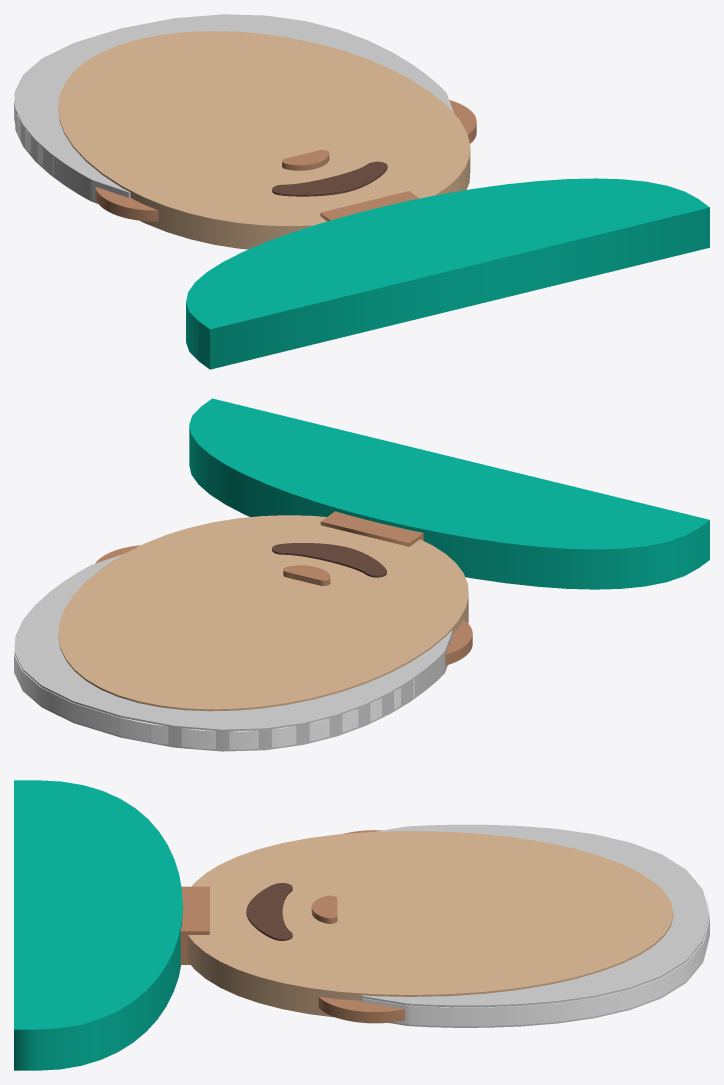
Rendered from emoji_u1f468_1f3fc_200d_1f9b3.glb.
The picture shows the model from 3 angles, top to bottom: view 1: azimuth 30°, elevation 25°; view 2: azimuth 150°, elevation 25°; view 3: azimuth 270°, elevation 25°; orthographic projection. The views are drawn at different scales.
Visible parts, largest first — view 1: emoji_u1f468_1f3fc_200d_1f9b3; view 2: emoji_u1f468_1f3fc_200d_1f9b3; view 3: emoji_u1f468_1f3fc_200d_1f9b3.
Boxes of the visible parts, <box> form: emoji_u1f468_1f3fc_200d_1f9b3: <box>14,14,709,369</box>; emoji_u1f468_1f3fc_200d_1f9b3: <box>14,398,709,751</box>; emoji_u1f468_1f3fc_200d_1f9b3: <box>14,780,709,1070</box>.
Size of the model in its own units: 0.0286 by 0.0022 by 0.0337.
